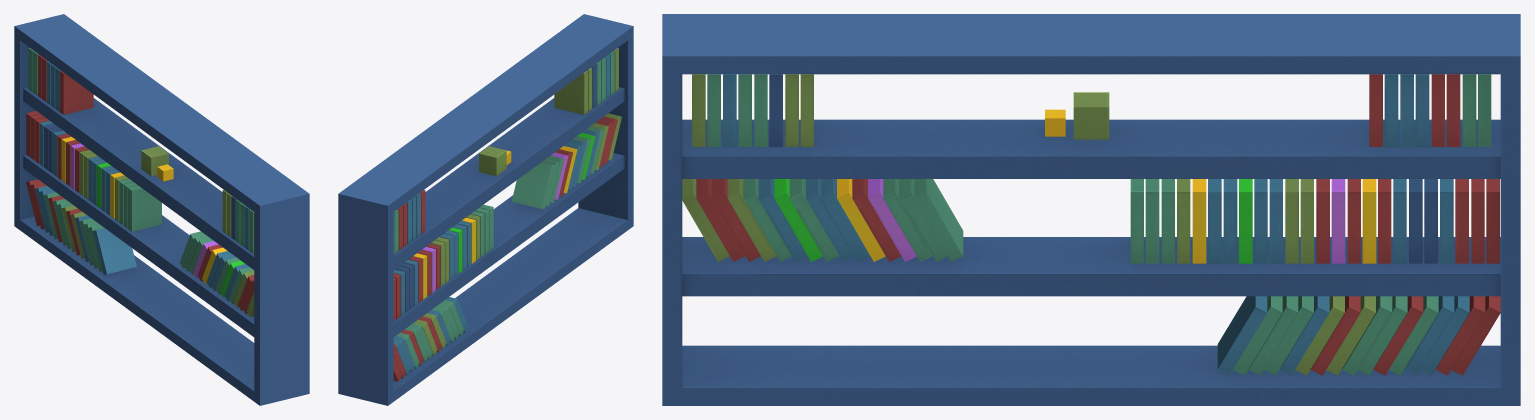
File: bookshelves01.fbx
3 renders of one model, left to right at view 1: azimuth 30°, elevation 25°; view 2: azimuth 150°, elevation 25°; view 3: azimuth 270°, elevation 25°, orthographic. The views are drawn at different scales.
Visible parts, largest first — view 1: polySurface84; view 2: polySurface84; view 3: polySurface84.
Part boxes in pixels (left/top/right/bottom): polySurface84: left=14, top=14, right=309, bottom=405; polySurface84: left=338, top=14, right=633, bottom=405; polySurface84: left=662, top=14, right=1520, bottom=405.
Size of the model in its own units: 6.03 by 23.23 by 51.67.
1 material, 1 textured.
